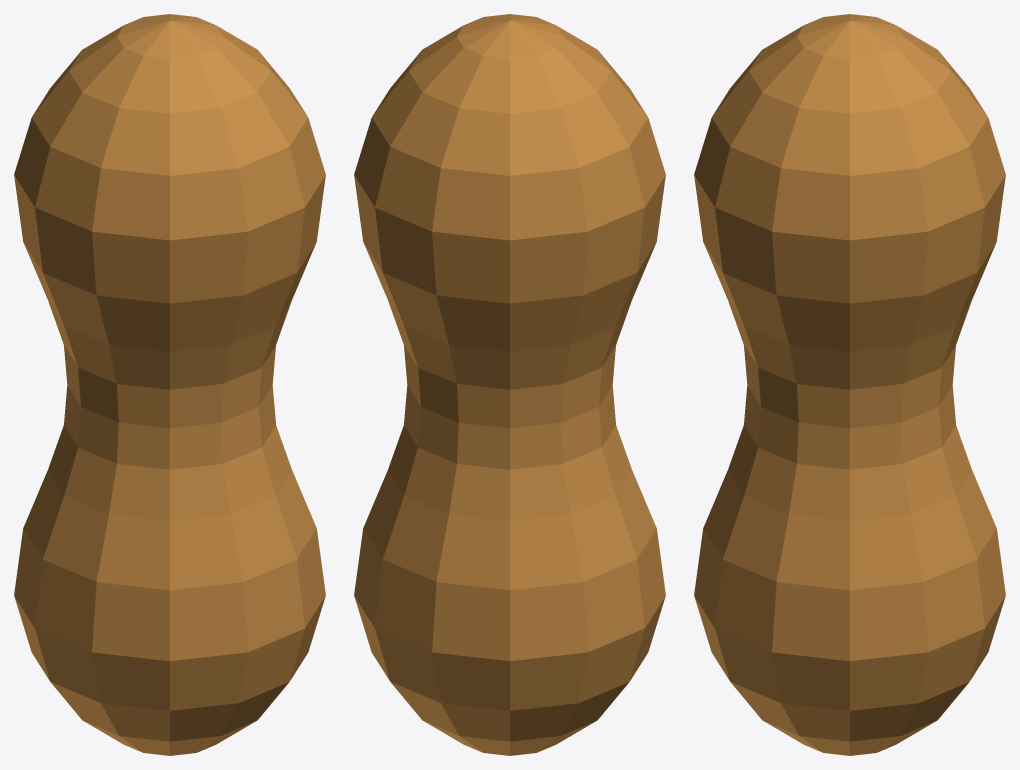
File: peanut.glb
The picture shows the model from 3 angles, left to right: view 1: azimuth 30°, elevation 25°; view 2: azimuth 150°, elevation 25°; view 3: azimuth 270°, elevation 25°; orthographic projection.
Visible parts, largest first — view 1: peanut; view 2: peanut; view 3: peanut.
Boxes of the visible parts, left/top/right/bottom form: peanut: left=14, top=14, right=325, bottom=755; peanut: left=354, top=14, right=665, bottom=755; peanut: left=694, top=14, right=1005, bottom=755.
Bounding box in the file's own units: 0.2925 × 0.7541 × 0.2925.
Materials: 1 (1 with a texture image).
